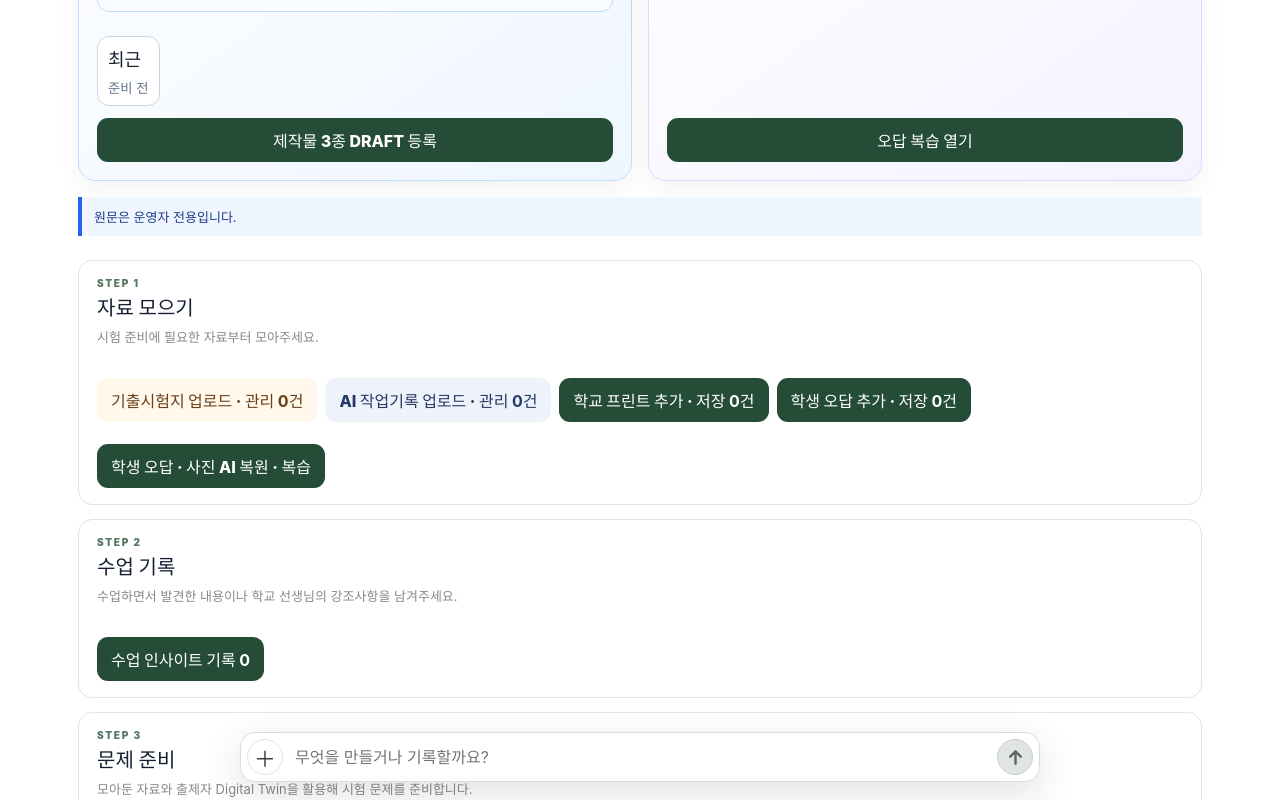
Test: 내신 Wiki V1.1 시나리오 홈 › HTML이 없는 제출 경로는 조용히 끝내지 않고 저장 불가 이유를 표시한다
The image size is (1280, 800).
(page scrolled)
Click the button "학교 프린트 추가 · 저장 0건".
click(664, 400)  # box [559,378,769,422]
(page scrolled)
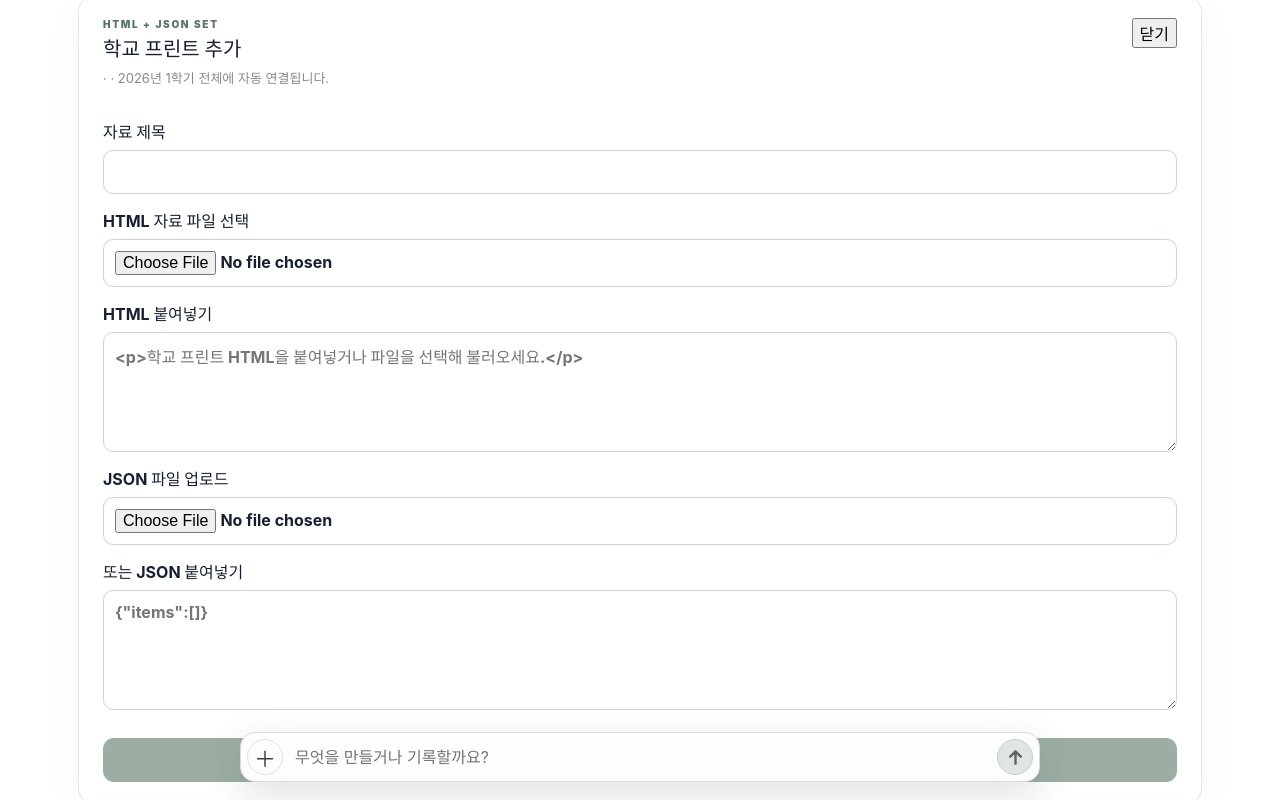
Submit the form "학교 프린트 추가"
(page scrolled)
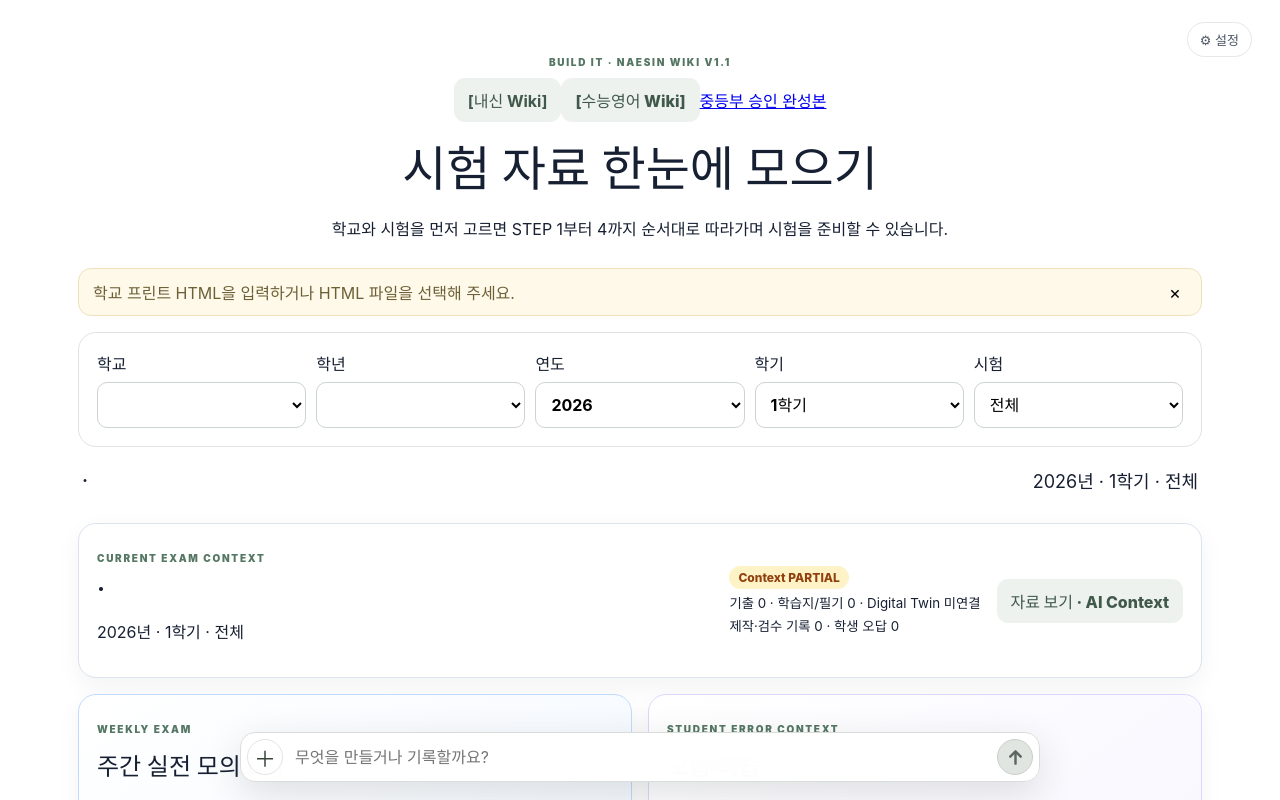
Now the message shows "학교 프린트 HTML을 입력하거나 HTML 파일을 선택해 주세요.", box [93,283,515,303]
